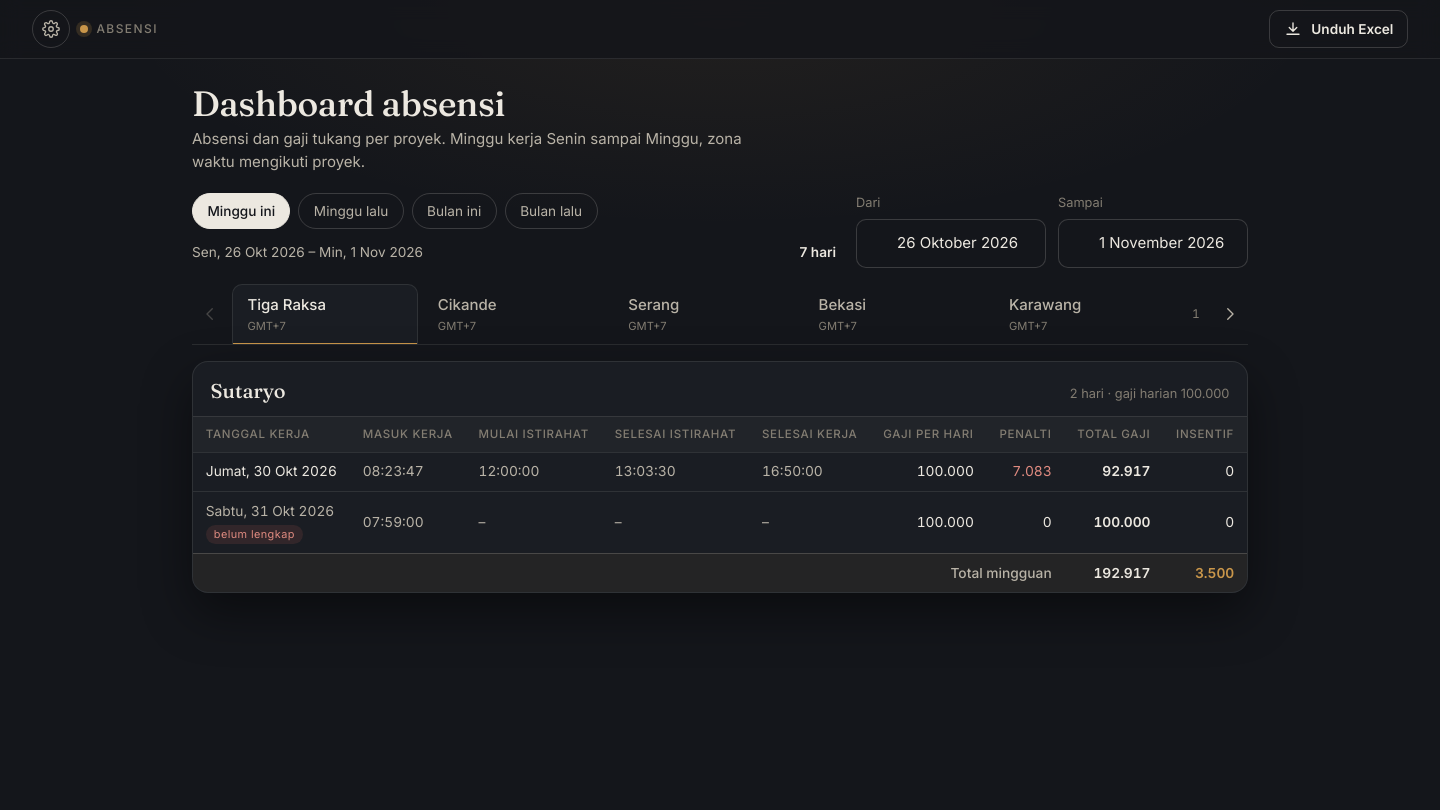
Test case: the Excel download lives behind the header button
Click the button "Unduh Excel": (1339, 29) [1269,10,1408,48]
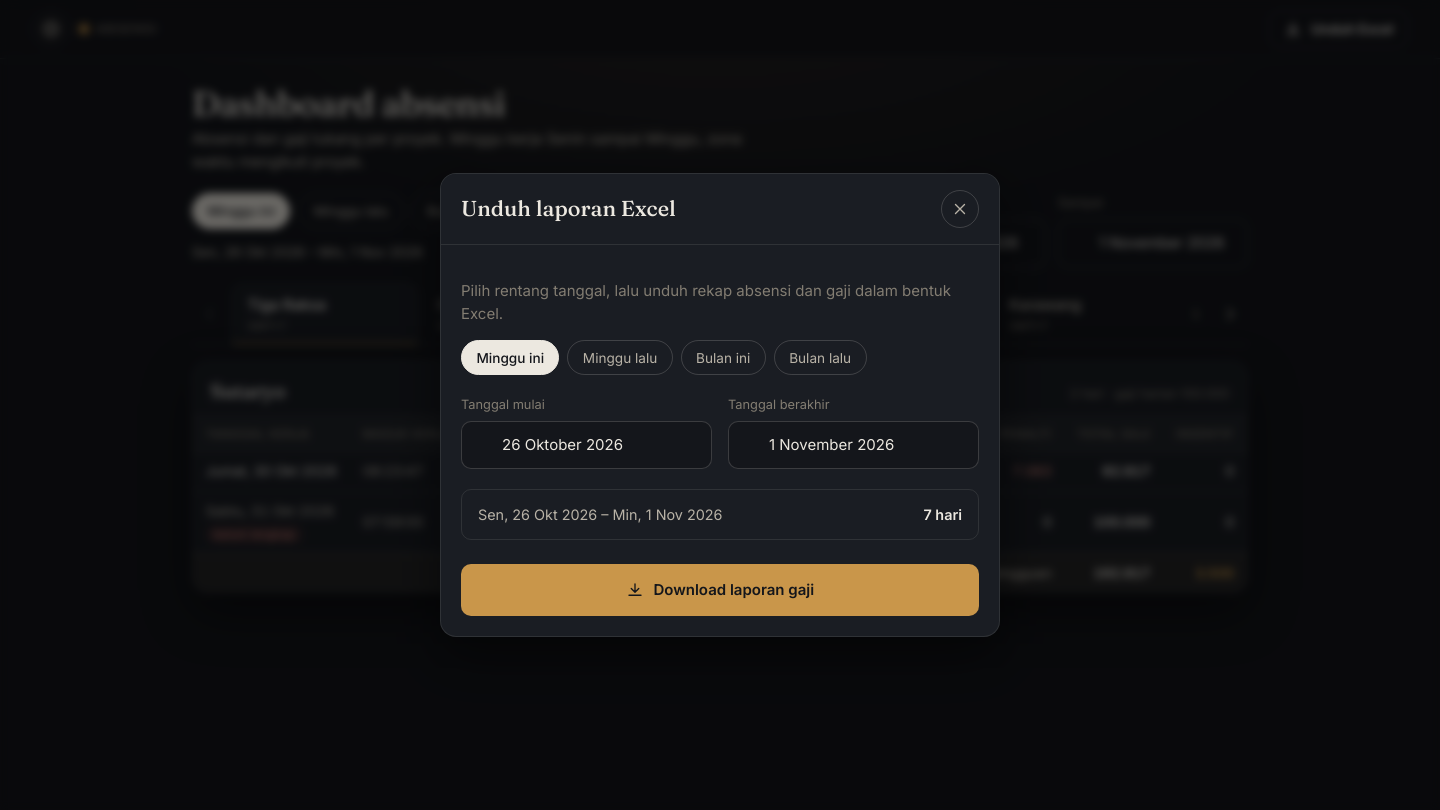
Check: the button "Download laporan gaji" is enabled, box [461,564,979,616]
